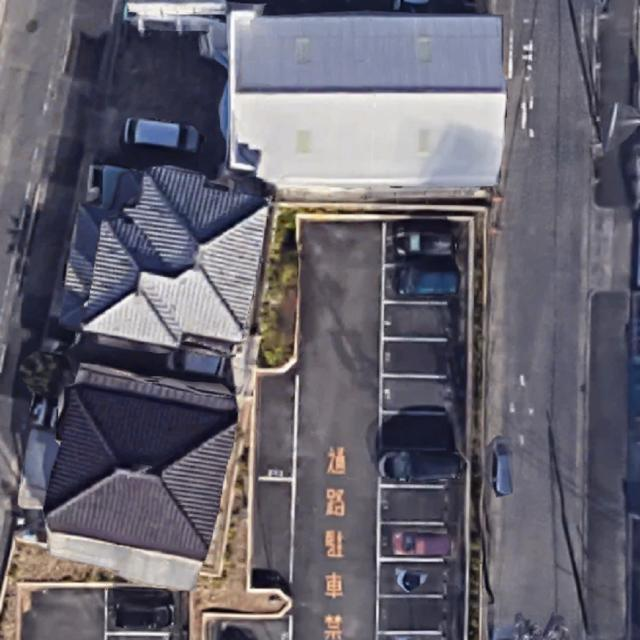Batiment: (231, 11, 506, 188), (45, 364, 236, 589), (60, 166, 267, 348)
